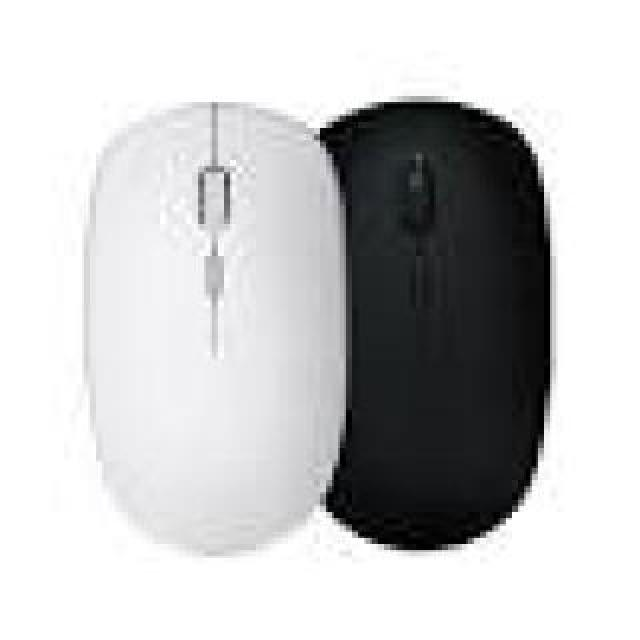mouse: (72, 93, 345, 585), (353, 82, 557, 575)
